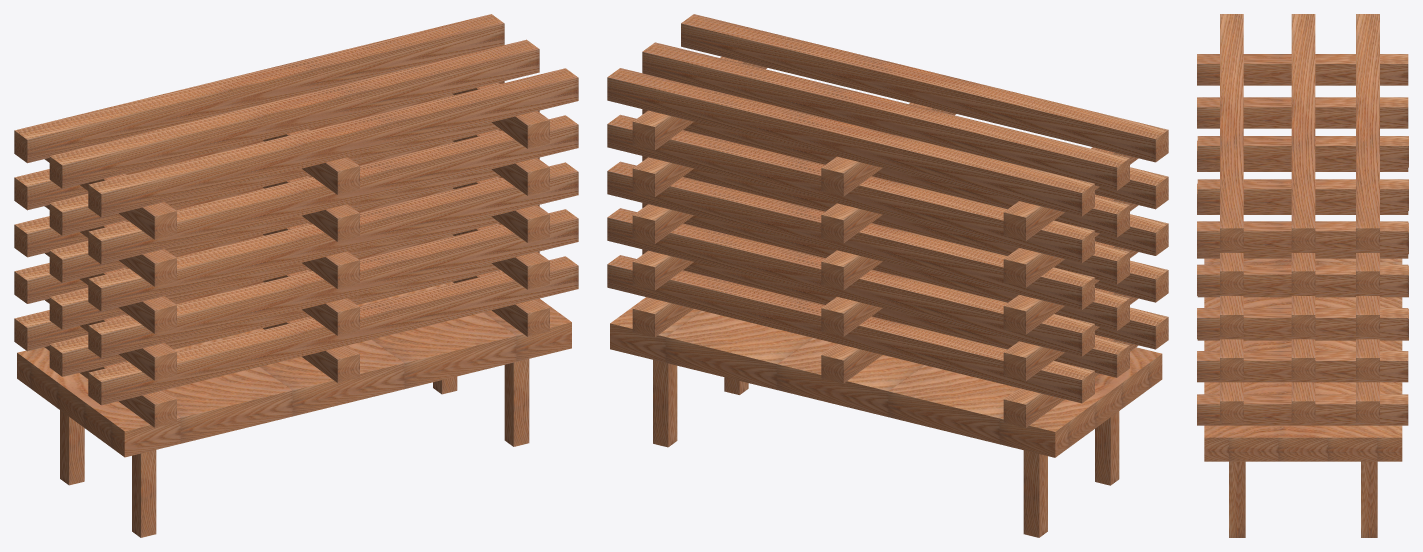
Rendered from lumber.fbx.
3 renders of one model, left to right at view 1: azimuth 30°, elevation 25°; view 2: azimuth 150°, elevation 25°; view 3: azimuth 270°, elevation 25°, orthographic. The views are drawn at different scales.
Visible parts, largest first — view 1: Box005, Box032, Box033, Box034, Box011, Box023, Box027, Box016, Box010, Box022, Box028, Box015 (+22 smaller); view 2: Box005, Box032, Box034, Box033, Box009, Box021, Box029, Box014, Box022, Box010, Box028, Box015 (+22 smaller); view 3: Box005, Box033, Box032, Box034, Box007, Box035, Box012, Box019, Box024, Box025, Box026, Box030 (+21 smaller).
Part boxes in pixels (bbox=[...]): Box005: bbox=[17, 270, 571, 457]; Box032: bbox=[88, 68, 578, 217]; Box033: bbox=[49, 39, 539, 188]; Box034: bbox=[14, 14, 504, 163]; Box011: bbox=[88, 256, 578, 405]; Box023: bbox=[88, 162, 578, 311]; Box027: bbox=[88, 115, 578, 264]; Box016: bbox=[88, 209, 578, 358]; Box010: bbox=[49, 251, 539, 376]; Box022: bbox=[49, 157, 539, 282]; Box028: bbox=[49, 110, 539, 235]; Box015: bbox=[49, 204, 539, 329]; Box005: bbox=[610, 297, 1162, 457]; Box032: bbox=[681, 14, 1168, 162]; Box034: bbox=[607, 68, 1094, 216]; Box033: bbox=[642, 42, 1129, 190]; Box009: bbox=[607, 255, 1094, 403]; Box021: bbox=[607, 161, 1094, 309]; Box029: bbox=[607, 114, 1094, 262]; Box014: bbox=[607, 208, 1094, 356]; Box022: bbox=[642, 156, 1129, 284]; Box010: bbox=[642, 249, 1129, 377]; Box028: bbox=[642, 109, 1129, 237]; Box015: bbox=[642, 203, 1129, 330]; Box005: bbox=[1204, 258, 1402, 461]; Box033: bbox=[1291, 14, 1315, 249]; Box032: bbox=[1220, 14, 1243, 249]; Box034: bbox=[1356, 14, 1379, 249]; Box007: bbox=[1197, 394, 1408, 425]; Box035: bbox=[1197, 221, 1408, 252]; Box012: bbox=[1197, 351, 1408, 382]; Box019: bbox=[1197, 308, 1408, 339]; Box024: bbox=[1197, 264, 1408, 295]; Box025: bbox=[1197, 179, 1408, 210]; Box026: bbox=[1197, 97, 1408, 128]; Box030: bbox=[1197, 136, 1408, 167].
Size of the model in its own units: 151 by 63.17 by 108.
Materials: 2 (2 with a texture image).
